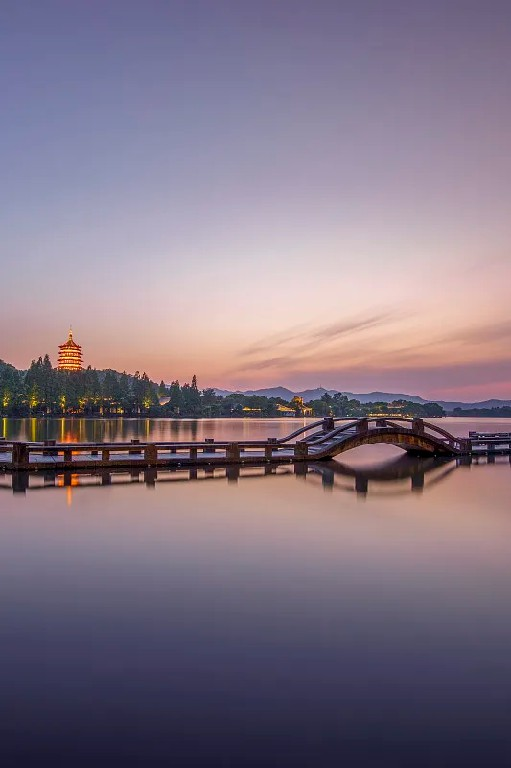Leifeng: (55, 330, 83, 370)
